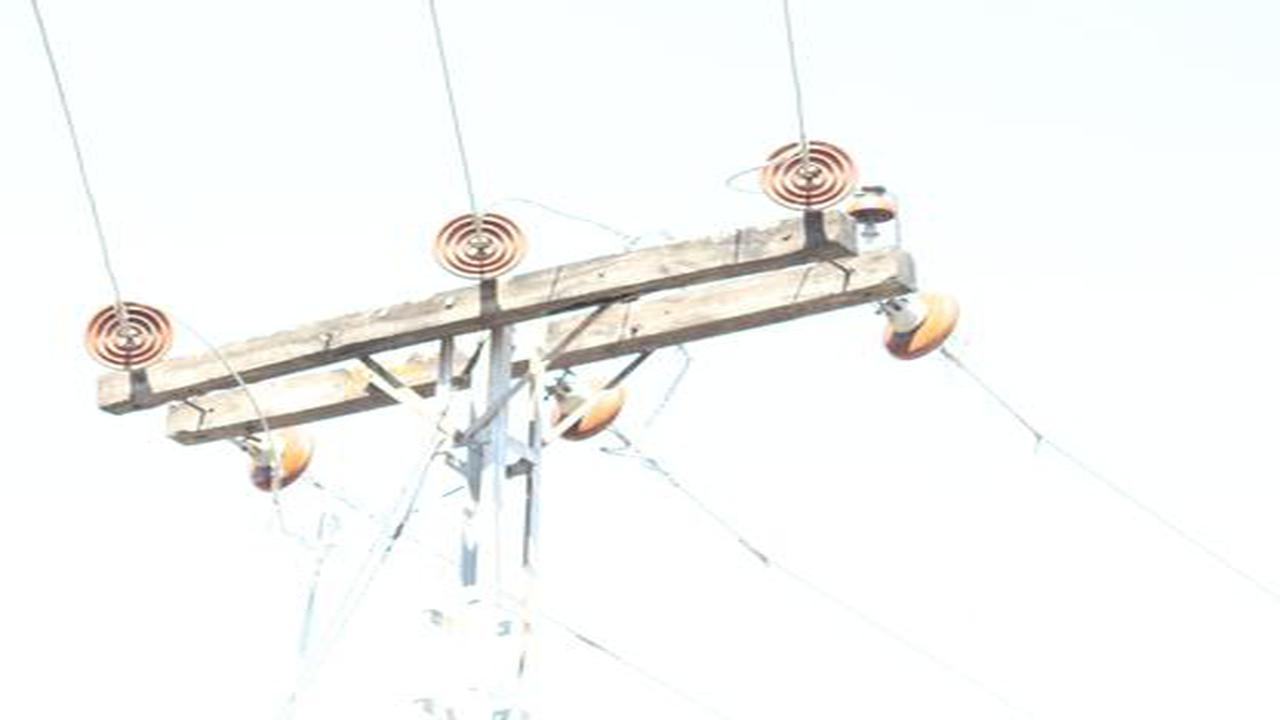insulator_disc: (759, 136, 861, 216), (431, 211, 531, 281), (81, 301, 176, 371), (544, 368, 632, 441), (876, 292, 962, 362), (241, 431, 320, 495)
insulator_pin: (849, 186, 899, 223)
